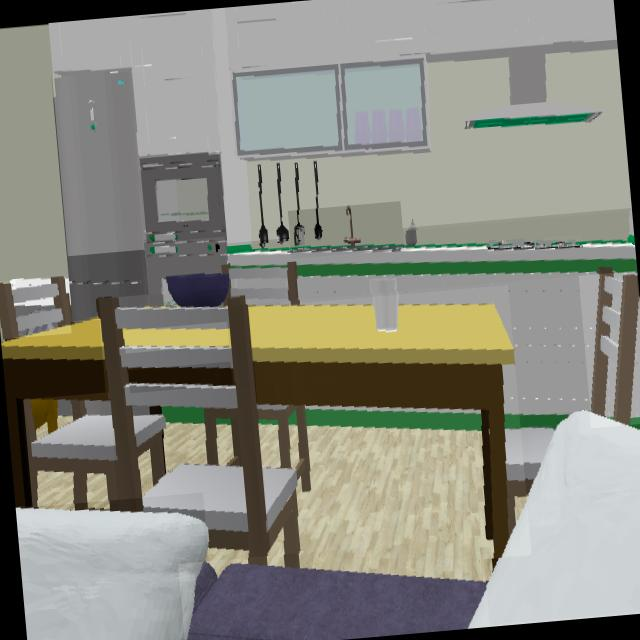cabinet: (49, 0, 616, 242)
chair: (99, 298, 299, 566), (25, 400, 119, 510), (590, 268, 640, 424), (506, 430, 553, 528), (0, 276, 69, 339), (133, 416, 164, 481)
countertop: (227, 238, 635, 278)
fridge: (54, 71, 148, 319)
microwave: (139, 155, 225, 249)
oven: (146, 241, 226, 304)
pillow: (470, 411, 640, 625), (15, 508, 207, 640)
sink: (291, 207, 404, 253)
sofa: (187, 561, 486, 640)
stove: (487, 240, 582, 250)
table: (249, 304, 514, 557), (1, 319, 106, 506), (124, 328, 229, 345), (128, 368, 231, 384)
